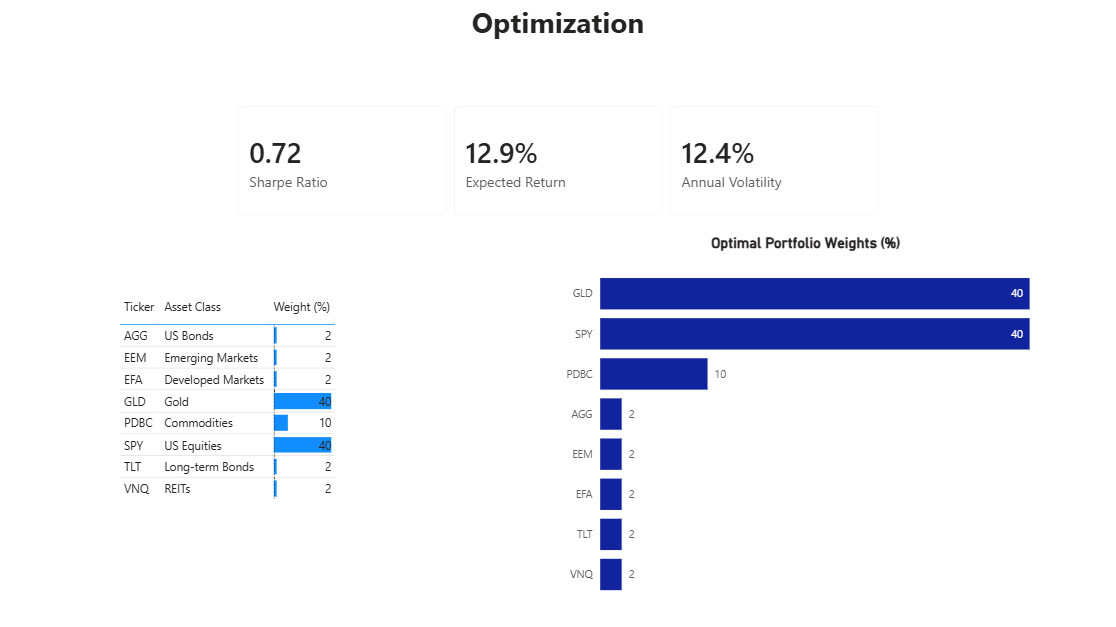

The page's visual inventory and layout, read from the dashboard file:
{"tool":"powerbi","page":{"name":"Optimization","canvas":[1280,720],"ordinal":2},"visuals":[{"type":"clusteredBarChart","title":"Optimal Portfolio Weights (%)","fields":{"Category":["portfolio_weights.Ticker"],"Y":["Sum(portfolio_weights.Weight_Pct)"]},"box":[641.4,268.6,562.9,431.4],"z":0},{"type":"textbox","box":[500,0,280,71.4],"z":1000},{"type":"tableEx","fields":{"Values":["portfolio_weights.Ticker","portfolio_weights.Asset_Class","portfolio_weights.Weight_Pct"]},"box":[132.9,334.3,318.6,275.7],"z":2000},{"type":"cardVisual","fields":{"Data":["kpi_summary.Sharpe Ratio","kpi_summary.Expected Return","kpi_summary.Annual Volatility"]},"box":[257.1,105.7,767.1,158.6],"z":2001}]}

Visuals, with their boxes in screenshot pixels (x1, y1, x2, y2), scaled from the page's 1280x720 canvas onto the 1116x627 screenshot:
"Optimal Portfolio Weights (%)" clusteredBarChart: (left=559, top=234, right=1050, bottom=610)
textbox: (left=436, top=0, right=680, bottom=62)
tableEx - portfolio_weights.Ticker x portfolio_weights.Asset_Class: (left=116, top=291, right=394, bottom=531)
cardVisual - kpi_summary.Sharpe Ratio x kpi_summary.Expected Return: (left=224, top=92, right=893, bottom=230)
